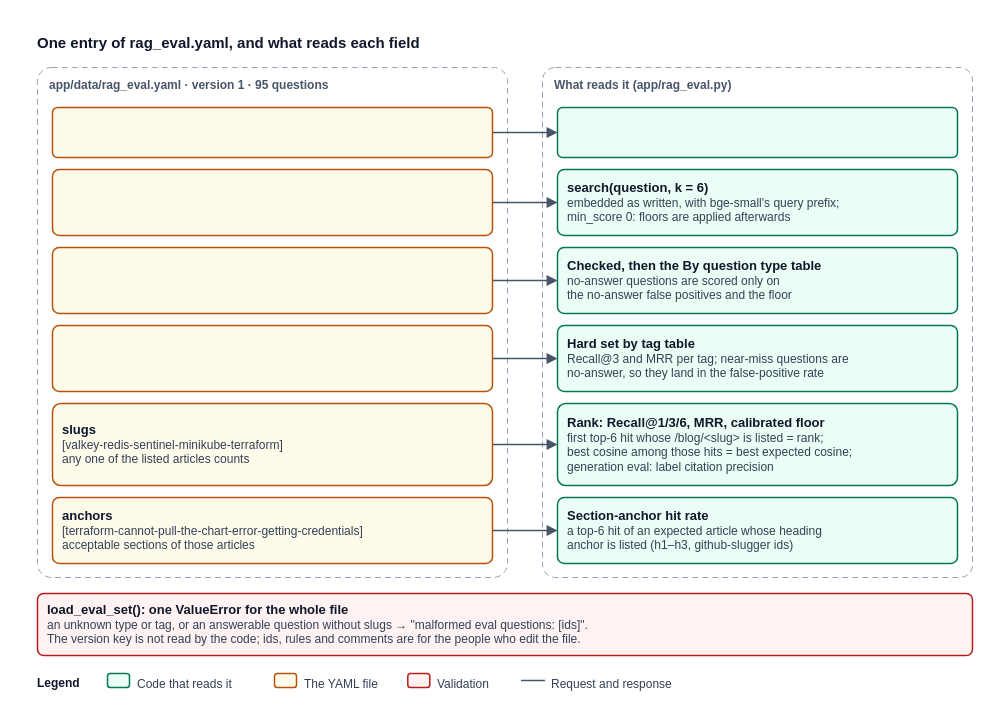
The diagram is 994 pixels wide and 722 high, and some of its shapes have lost their labels. The shapes that lost their labels are listed below. From the top down, each one's centre as x and y in pixels, then its label:
At point 272,132: "id: x37 c, h, e, t, n = first 55; x01–x40 = hard set".
At point 757,132: "Report rows the per-question table in every report".
At point 272,202: "question Error: error getting credentials when Terraform pulls the Valkey chart".
At point 272,280: "type: exact-term concept · how-to · exact-term · troubleshooting · no-answer".
At point 272,358: "tags: [exact] optional: paraphrase · multi-hop · exact · near-miss".
